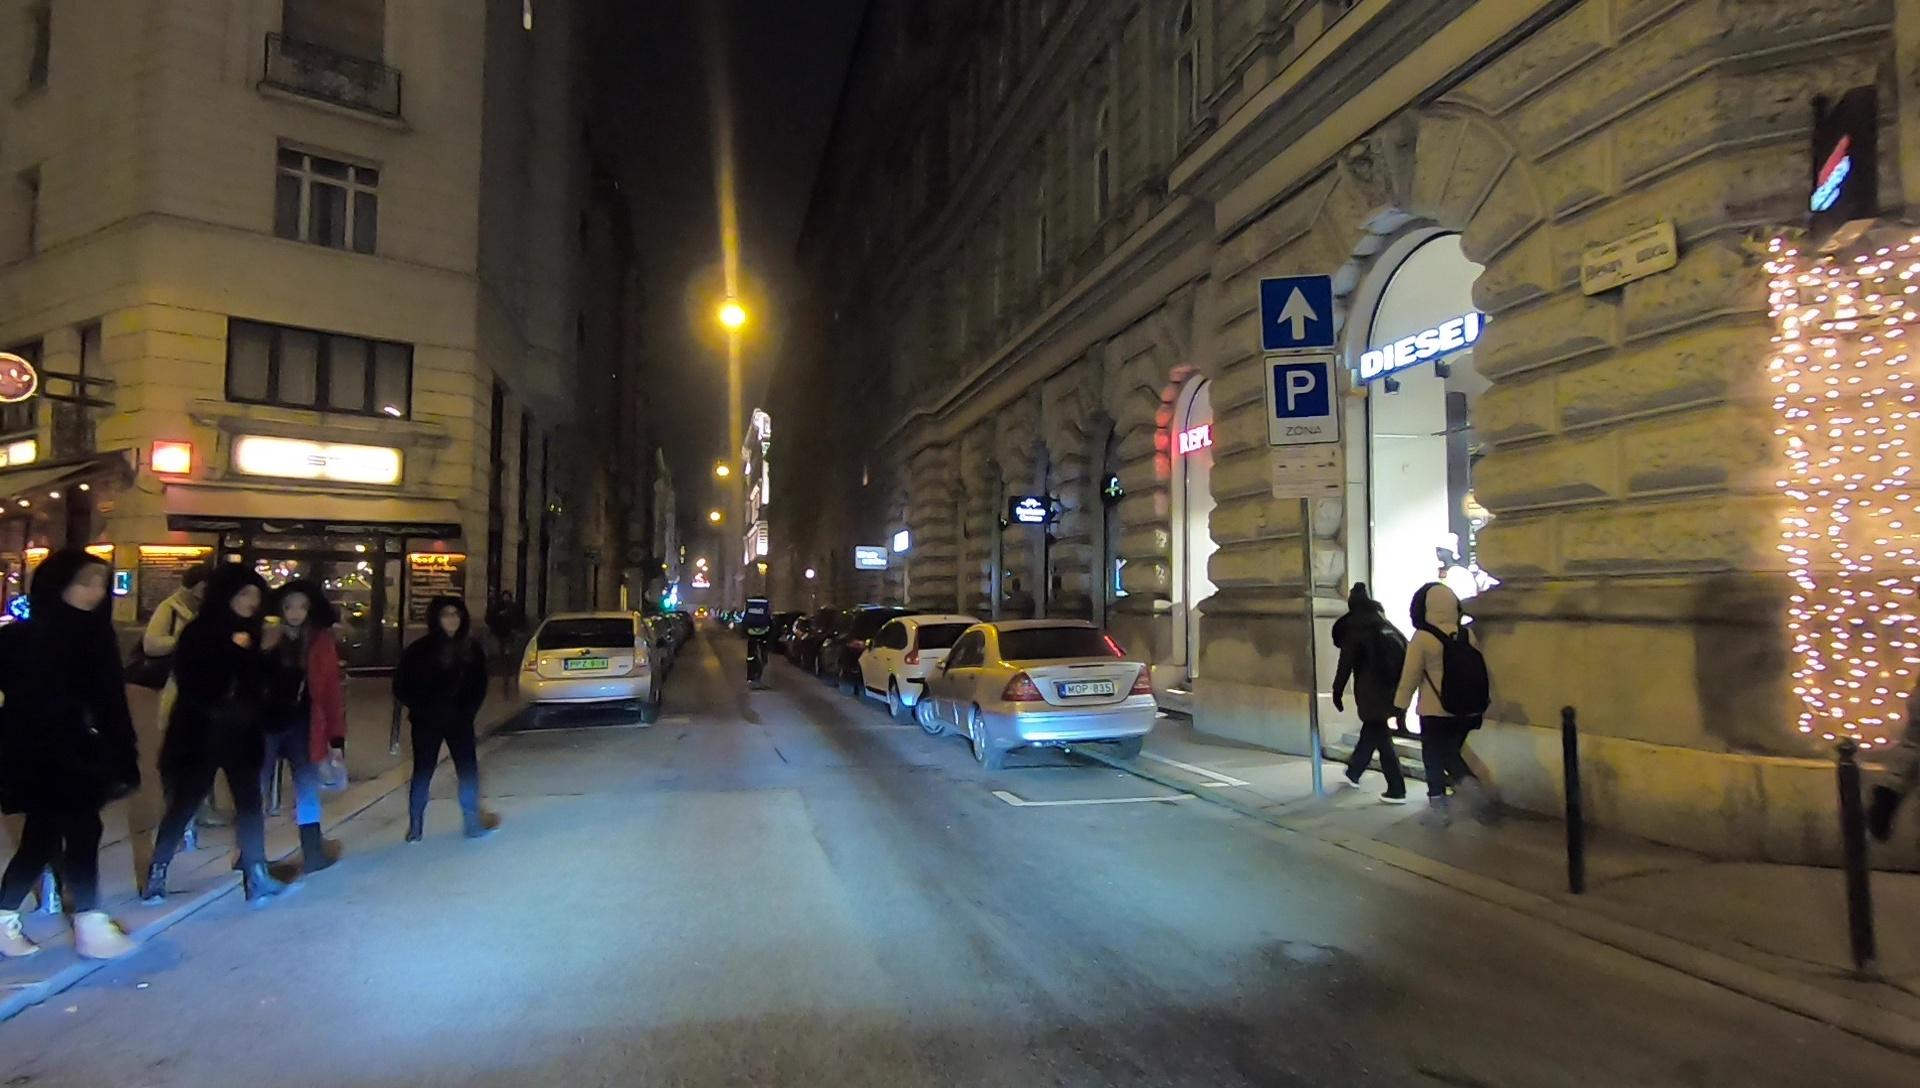person: (2, 549, 139, 969), (171, 576, 295, 904), (384, 593, 514, 849), (262, 586, 356, 869), (1326, 576, 1415, 806), (1399, 576, 1486, 797)
